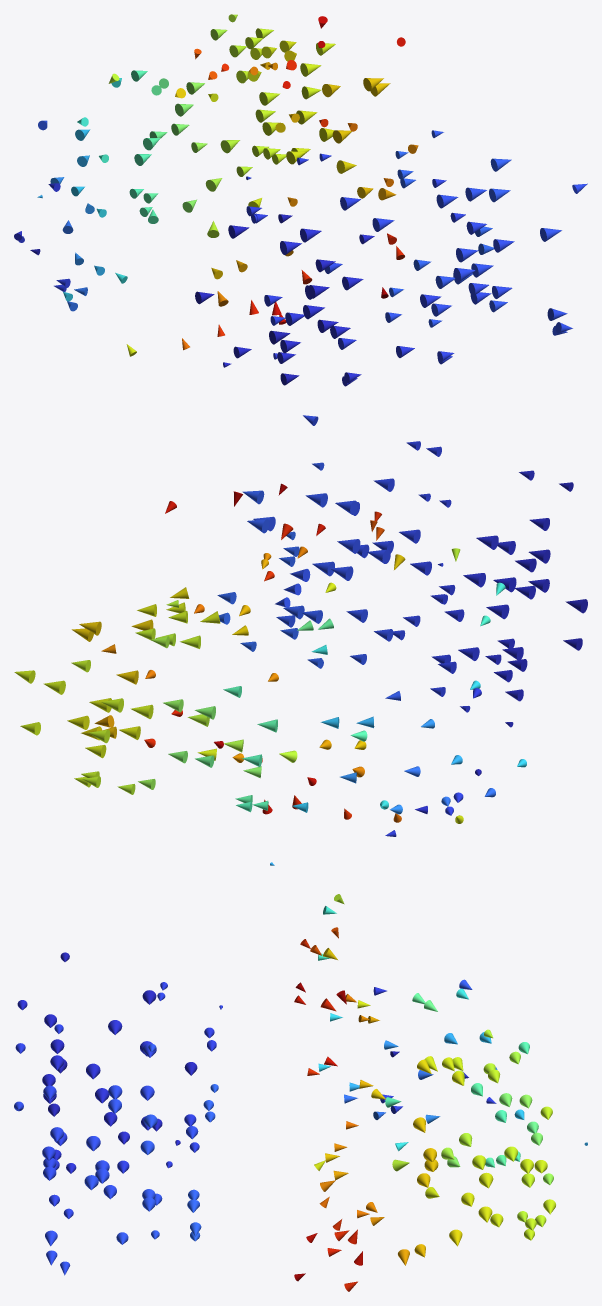
The model's file is LineasCorrienteN2-H2O_mh2-1.38_V-0.9.glb.
3 renders of one model, top to bottom at view 1: azimuth 30°, elevation 25°; view 2: azimuth 150°, elevation 25°; view 3: azimuth 270°, elevation 25°, orthographic. The views are drawn at different scales.
Size of the model in its own units: 0.000956 by 0.000706 by 0.00126.
2 materials, 2 textured.
